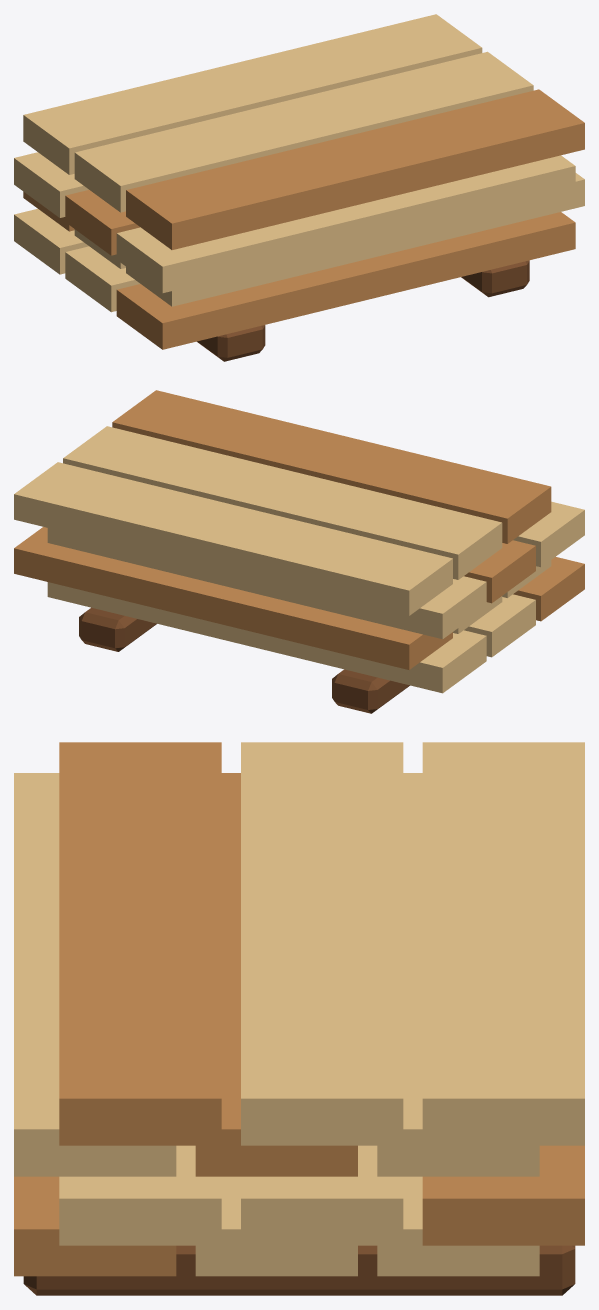
The model's file is prop_planks_m.fbx.
3 views of the same model, one above another, from view 1: azimuth 30°, elevation 25°; view 2: azimuth 150°, elevation 25°; view 3: azimuth 270°, elevation 25° (orthographic). The views are drawn at different scales.
Visible parts, largest first — view 1: prop_planks_m; view 2: prop_planks_m; view 3: prop_planks_m.
Part boxes in pixels (<box>): prop_planks_m: <box>14,14,584,361</box>; prop_planks_m: <box>14,390,584,713</box>; prop_planks_m: <box>14,742,584,1295</box>.
Bounding box in the file's own units: 0.3288 × 0.1044 × 0.2112.
